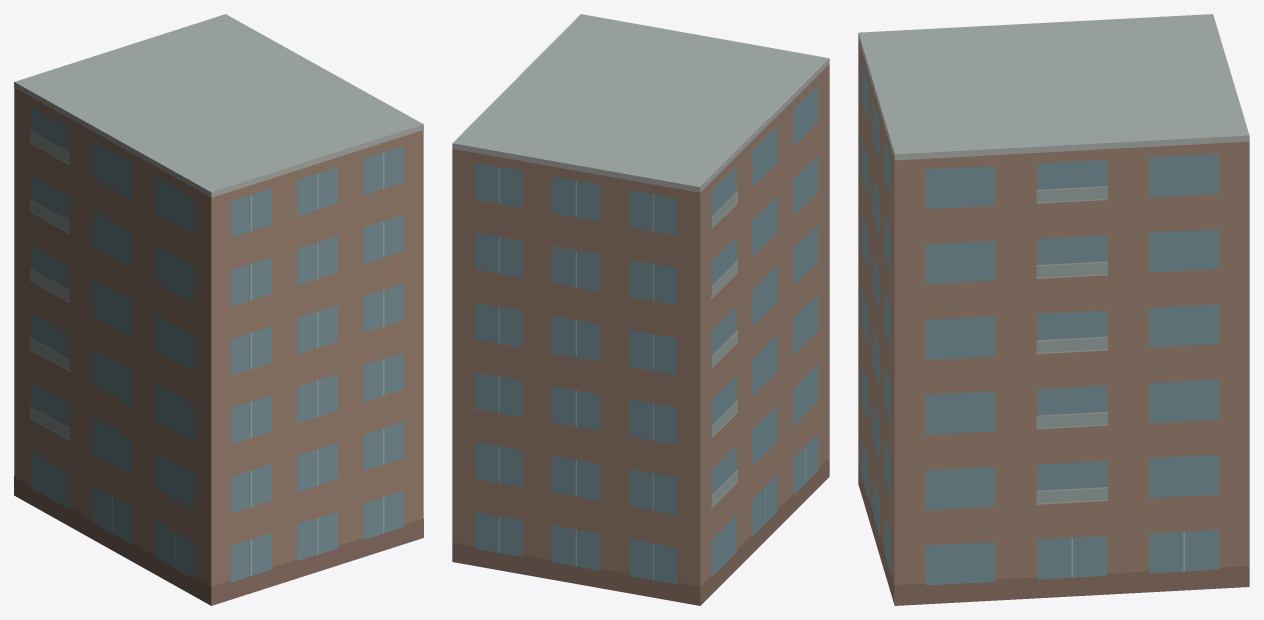
The model's file is survey-upis-33002947.glb.
3 views of the same model, side by side, from view 1: azimuth 30°, elevation 25°; view 2: azimuth 150°, elevation 25°; view 3: azimuth 270°, elevation 25° (orthographic). The views are drawn at different scales.
Visible parts, largest first — view 1: survey-upis-33002947.tmp; view 2: survey-upis-33002947.tmp; view 3: survey-upis-33002947.tmp.
Boxes of the visible parts, x1,y1,x2,y2 form: survey-upis-33002947.tmp: (14,14,423,605); survey-upis-33002947.tmp: (452,14,829,605); survey-upis-33002947.tmp: (858,14,1249,605).
Bounding box in the file's own units: 12.22 × 18.3 × 14.38.
